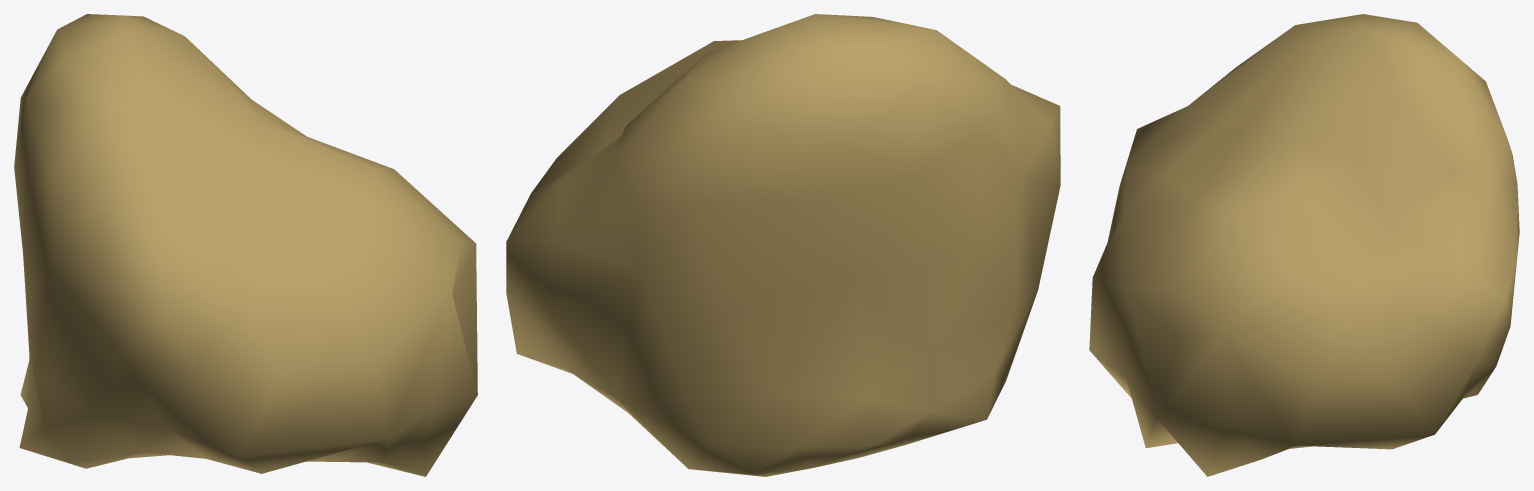
The model's file is Rock2.fbx.
3 renders of one model, left to right at view 1: azimuth 30°, elevation 25°; view 2: azimuth 150°, elevation 25°; view 3: azimuth 270°, elevation 25°, orthographic. The views are drawn at different scales.
Parts seen in each view (by area): view 1: Boulder4; view 2: Boulder4; view 3: Boulder4.
Part boxes in pixels (<box>): Boulder4: <box>14,14,477,476</box>; Boulder4: <box>506,14,1060,476</box>; Boulder4: <box>1089,14,1519,476</box>.
Bounding box in the file's own units: 216 × 200 × 222.
